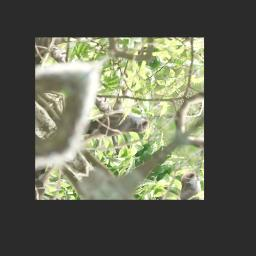Cuckoo: (72, 89, 158, 170)
